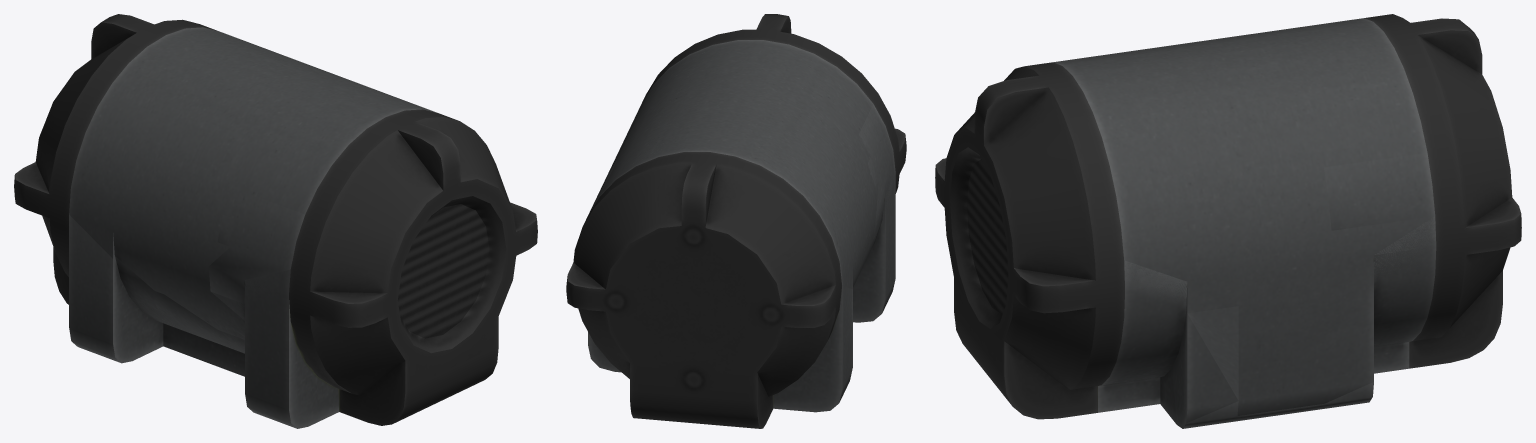
File: Part C Combined.fbx
3 renders of one model, left to right at view 1: azimuth 30°, elevation 25°; view 2: azimuth 150°, elevation 25°; view 3: azimuth 270°, elevation 25°, orthographic. The views are drawn at different scales.
Parts seen in each view (by area): view 1: Part C Broken, Part C Good, Part C Damaged; view 2: Part C Broken, Part C Damaged, Part C Good; view 3: Part C Good, Part C Broken, Part C Damaged.
Boxes of the visible parts, x1,y1,x2,y2 form: Part C Broken: (14, 22, 536, 428); Part C Good: (69, 27, 438, 339); Part C Damaged: (15, 14, 537, 428); Part C Broken: (566, 14, 900, 428); Part C Damaged: (566, 34, 906, 428); Part C Good: (600, 40, 878, 289); Part C Good: (1053, 18, 1434, 428); Part C Broken: (935, 20, 1521, 428); Part C Damaged: (936, 14, 1521, 425).
Size of the model in its own units: 70.62 by 51.44 by 89.62.
